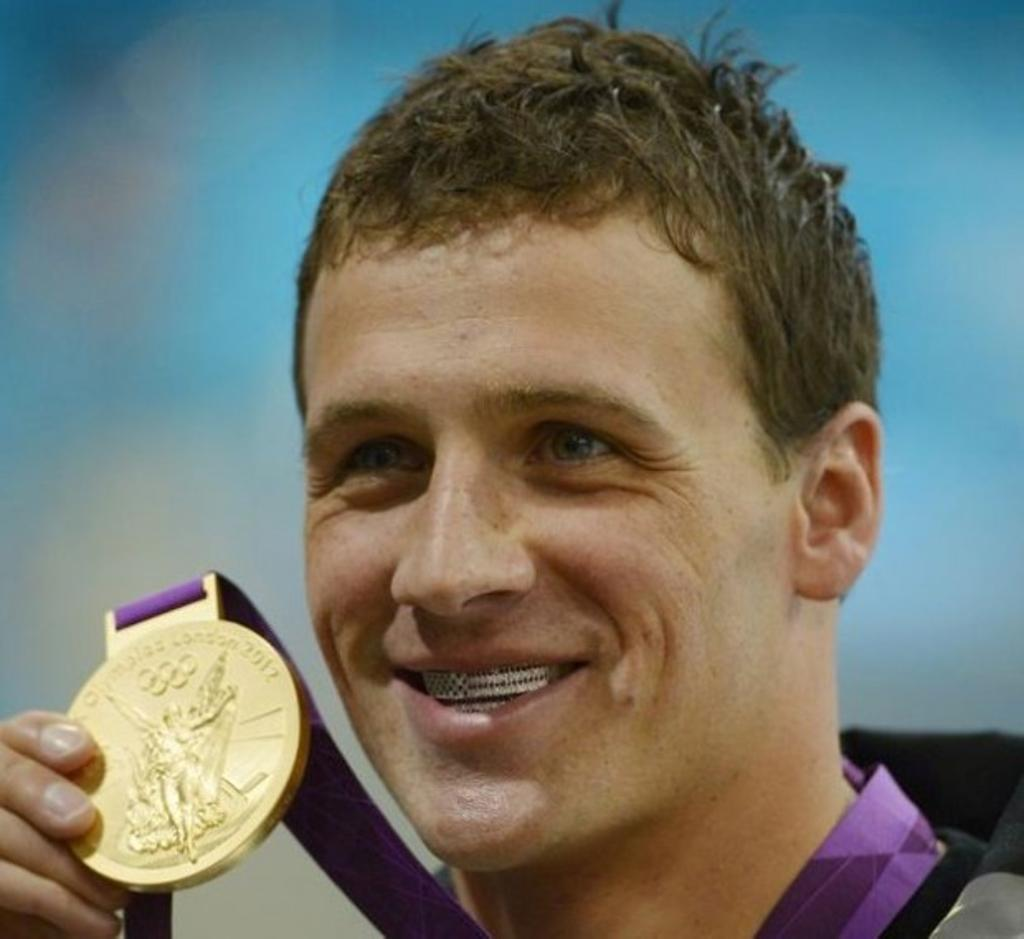face: (298, 262, 746, 886)
